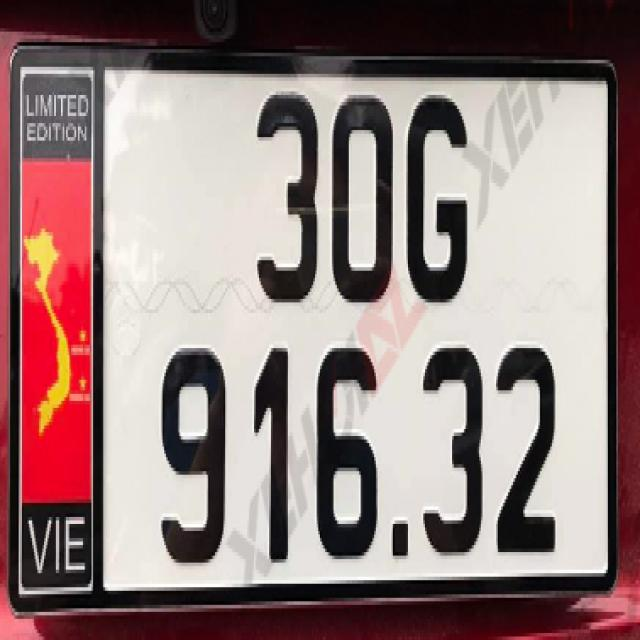0: (329, 89, 394, 308)
1: (248, 336, 296, 568)
2: (496, 339, 560, 558)
3: (418, 333, 488, 564), (254, 86, 323, 310)
6: (311, 334, 382, 568)
9: (157, 342, 228, 568)
G: (404, 88, 472, 308)
